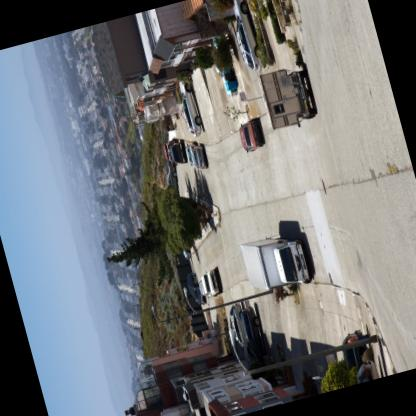Car: (221, 0, 266, 69), (173, 74, 203, 138), (210, 39, 237, 100), (236, 116, 266, 152), (238, 304, 263, 341), (226, 304, 247, 342), (187, 140, 208, 166), (188, 276, 204, 300), (183, 144, 193, 160)
